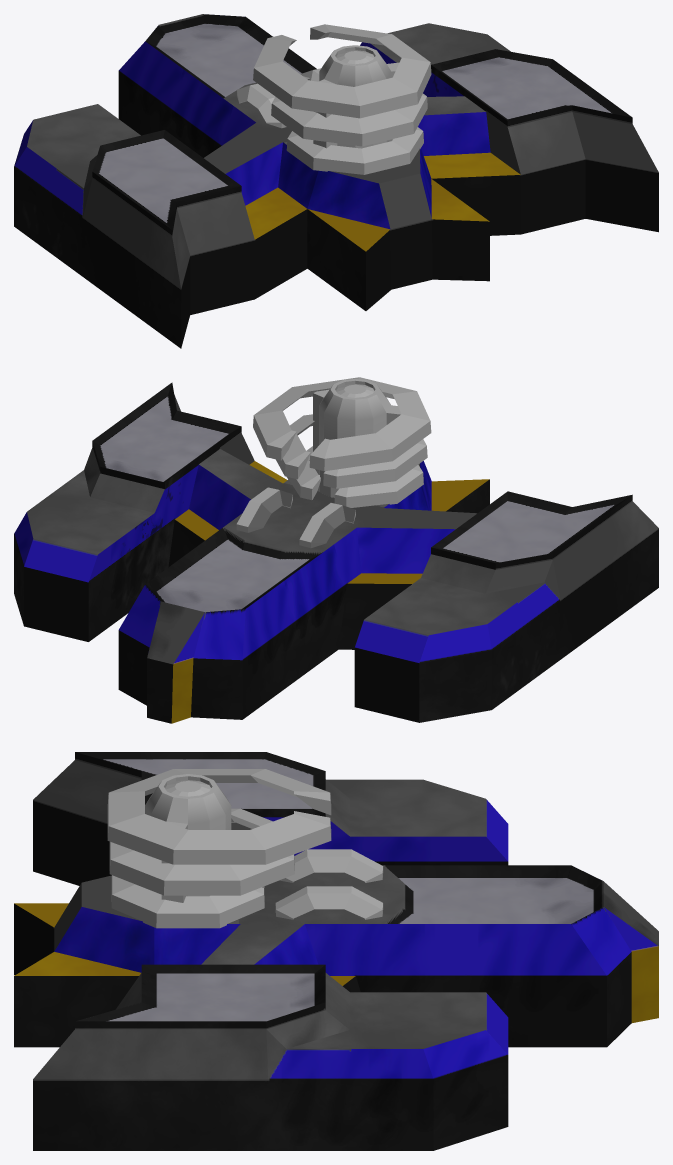
File: Triton.fbx
3 renders of one model, top to bottom at view 1: azimuth 30°, elevation 25°; view 2: azimuth 150°, elevation 25°; view 3: azimuth 270°, elevation 25°, orthographic. The views are drawn at different scales.
Parts seen in each view (by area): view 1: TortoiseTank:Mesh, polySurface13, polySurface14, polySurface15, polySurface12, polySurface17; view 2: TortoiseTank:Mesh, polySurface13, polySurface12, polySurface14, polySurface15, polySurface16, polySurface17; view 3: TortoiseTank:Mesh, polySurface13, polySurface14, polySurface15, polySurface12, polySurface16, polySurface17.
Boxes of the visible parts, x1,y1,x2,y2 form: TortoiseTank:Mesh: [14, 14, 658, 348]; polySurface13: [253, 24, 431, 118]; polySurface14: [271, 76, 427, 146]; polySurface15: [286, 127, 423, 174]; polySurface12: [313, 45, 398, 148]; polySurface17: [237, 83, 286, 128]; TortoiseTank:Mesh: [14, 382, 658, 723]; polySurface13: [253, 377, 431, 471]; polySurface12: [313, 379, 401, 497]; polySurface14: [276, 414, 427, 488]; polySurface15: [287, 446, 423, 507]; polySurface16: [236, 487, 292, 532]; polySurface17: [299, 503, 355, 548]; TortoiseTank:Mesh: [14, 752, 658, 1150]; polySurface13: [107, 769, 331, 864]; polySurface14: [109, 808, 294, 895]; polySurface15: [111, 875, 264, 928]; polySurface12: [145, 774, 231, 902]; polySurface16: [275, 886, 383, 919]; polySurface17: [279, 849, 383, 882].
Bounding box in the file's own units: 12.8 × 4.8 × 12.48.
